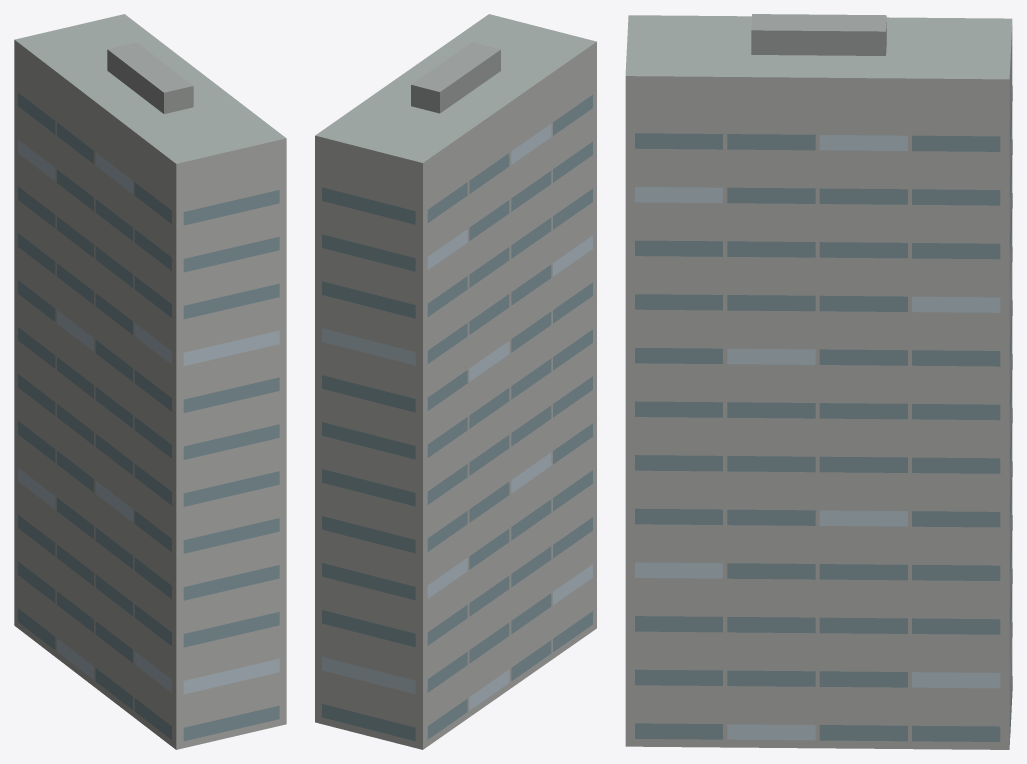
File: fallback-sk-bukhansan-city-130.glb
3 renders of one model, left to right at view 1: azimuth 30°, elevation 25°; view 2: azimuth 150°, elevation 25°; view 3: azimuth 270°, elevation 25°, orthographic. The views are drawn at different scales.
Parts seen in each view (by area): view 1: fallback-sk-bukhansan-city-130; view 2: fallback-sk-bukhansan-city-130; view 3: fallback-sk-bukhansan-city-130.
Part boxes in pixels (bbox=[...]): fallback-sk-bukhansan-city-130: bbox=[14, 14, 286, 749]; fallback-sk-bukhansan-city-130: bbox=[315, 14, 596, 749]; fallback-sk-bukhansan-city-130: bbox=[625, 14, 1012, 749].
Bounding box in the file's own units: 13.52 × 68 × 34.36.
